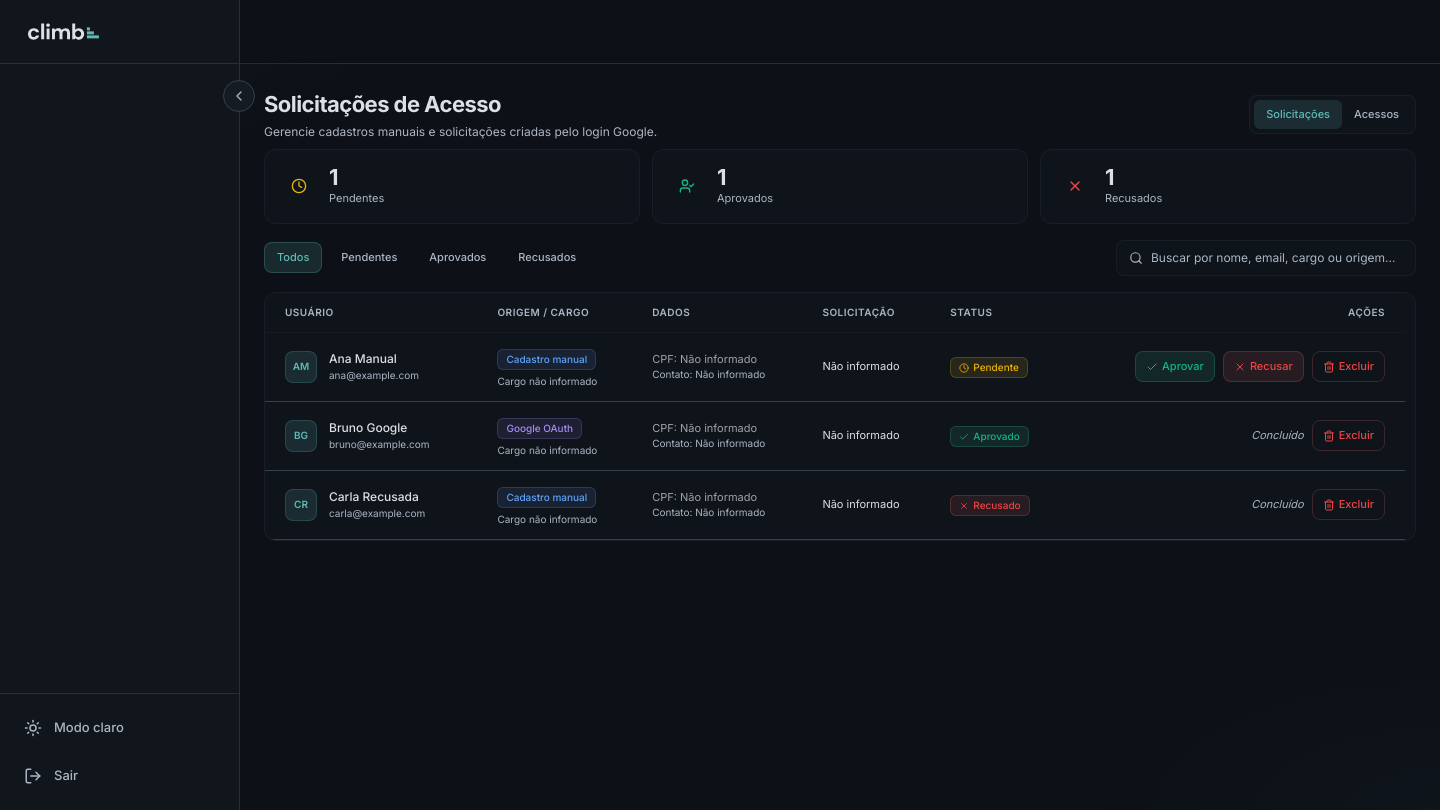
Scenario: exclusão de solicitações de acesso › exclui APROVADO da origem GOOGLE e mantém as outras solicitações
The image size is (1440, 810).
Expected: the button with aria-label "Excluir solicitação de Ana Manual" is shown, [1312, 351, 1385, 382]
Step 1. Click the button "Excluir" in the row of "BG" → (1348, 436), box [1312, 420, 1385, 451]
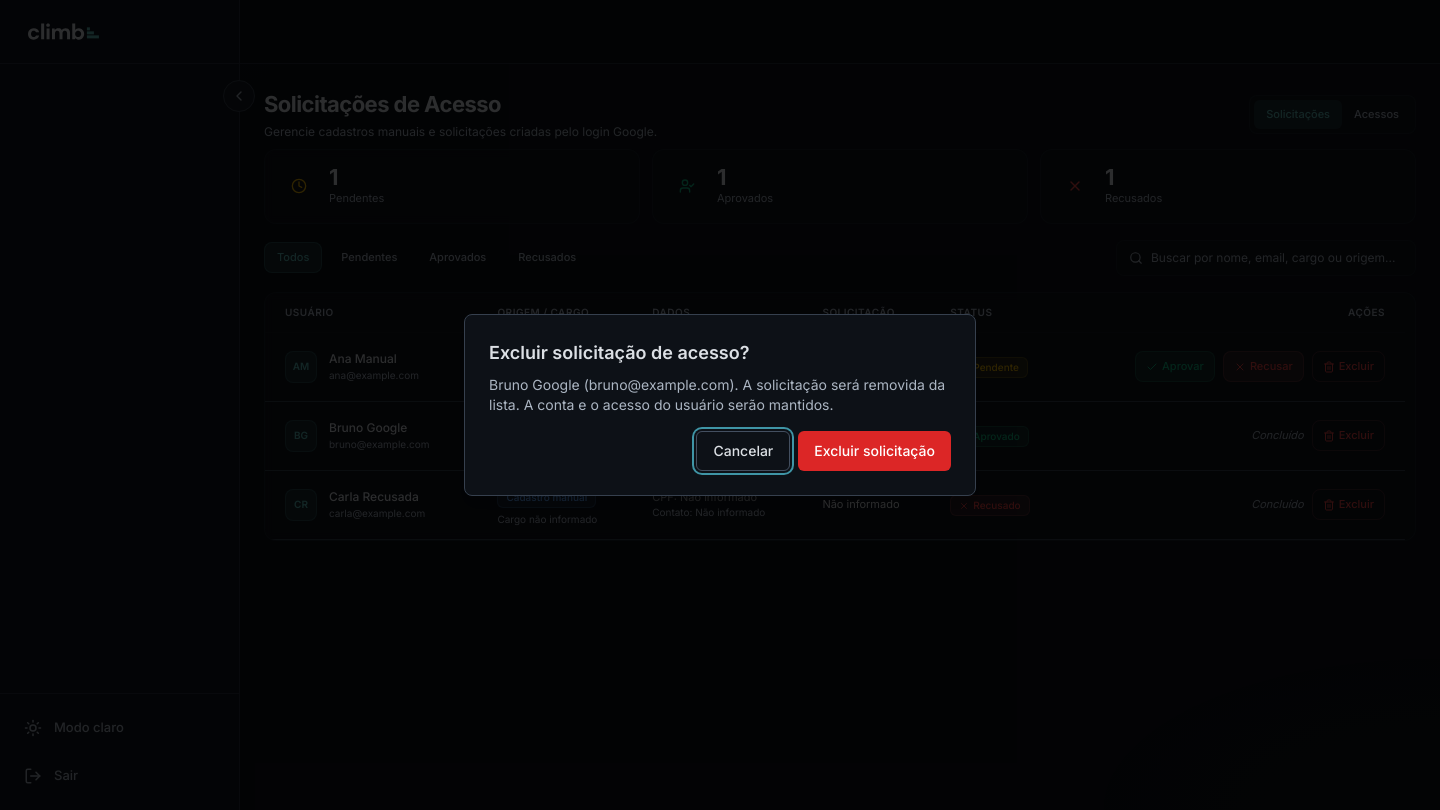
Result: the dialog shows "bruno@example.com" at [589, 376, 730, 393]
Result: the dialog shows "A conta e o acesso do usuário serão mantidos" at [489, 376, 945, 413]
Step 2. Click the button "Excluir solicitação" → (875, 451), box [798, 431, 951, 471]
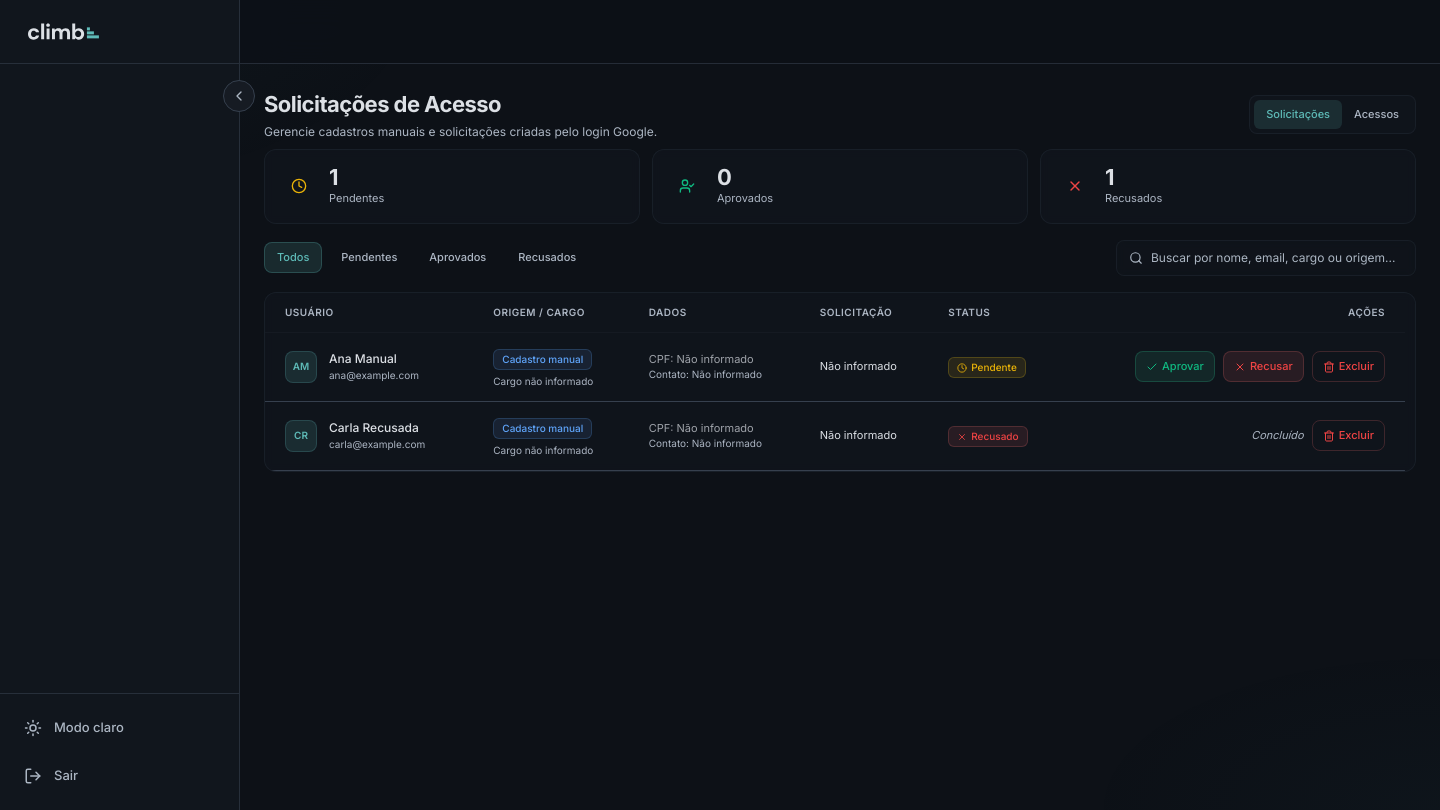
Result: the dialog is gone
